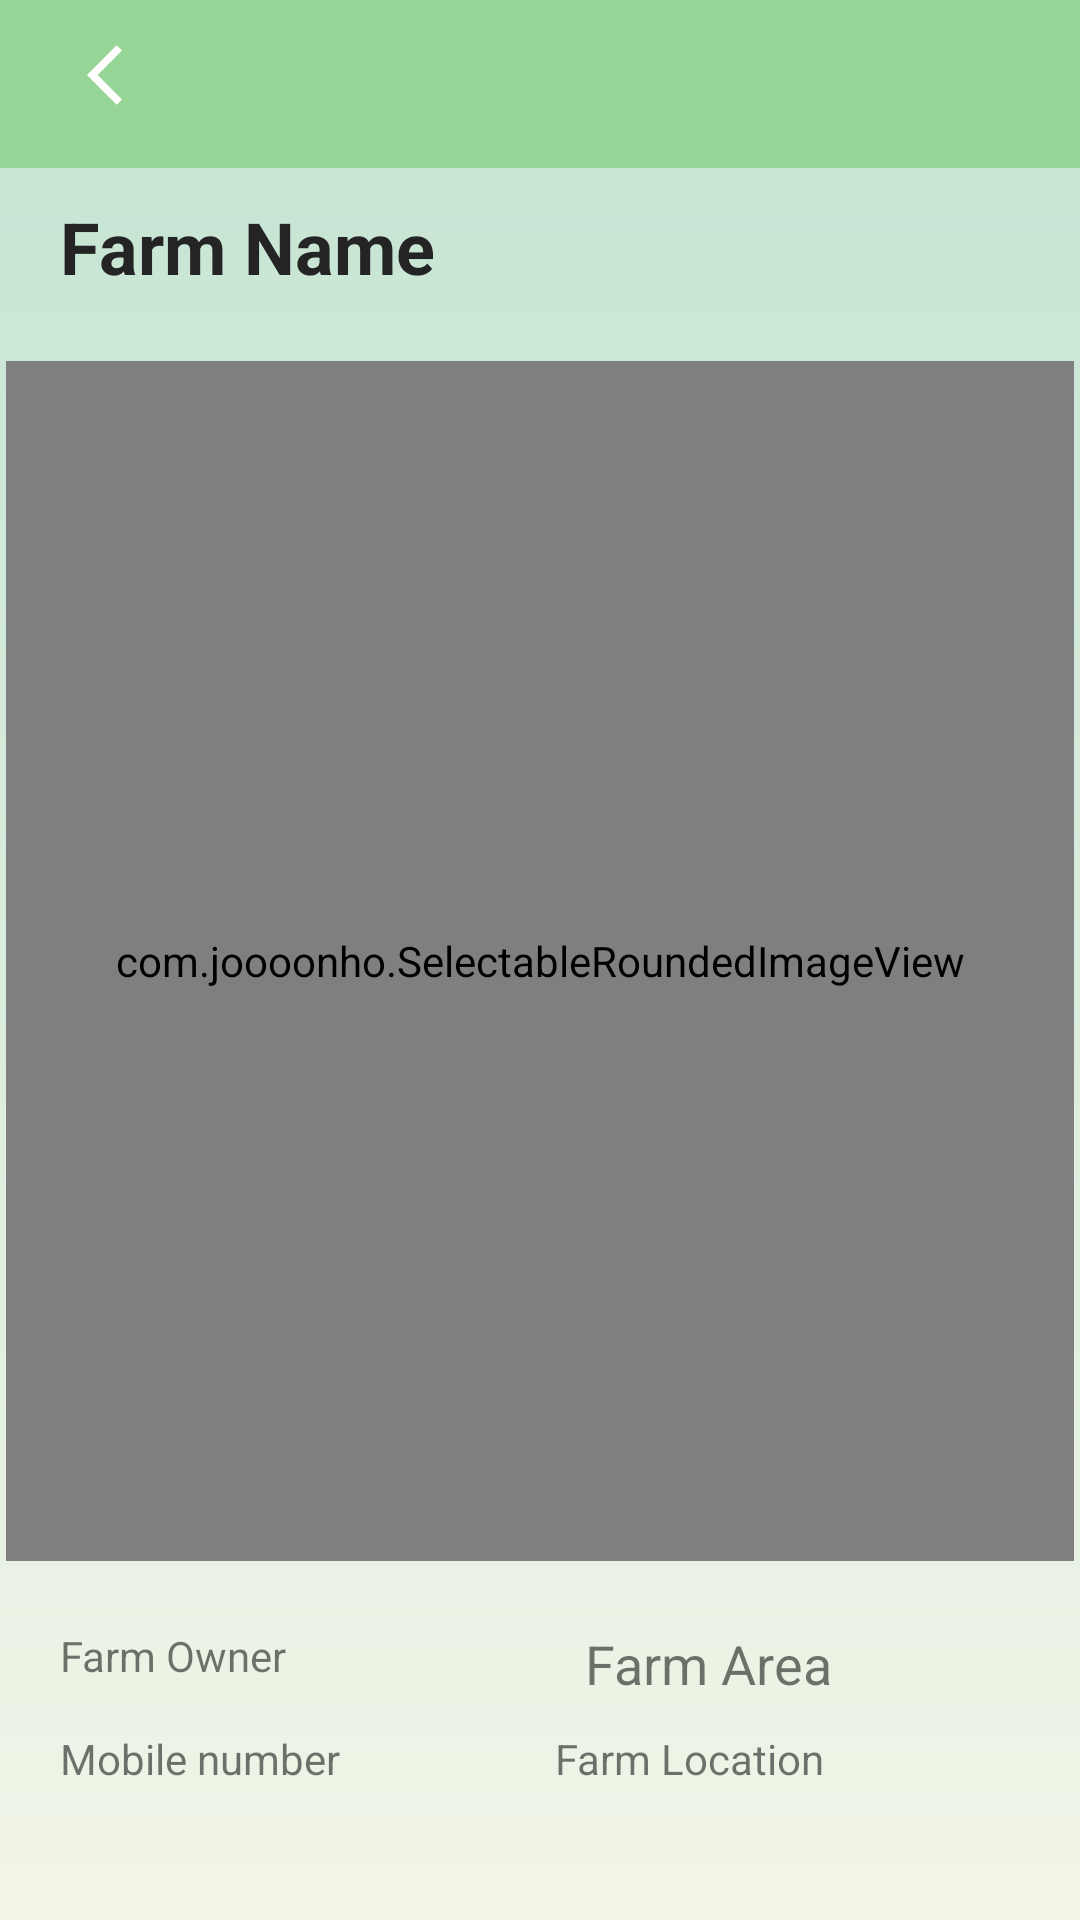

Point at icon controls on the screen. Image size 1080 x 1920, points as (x,y).
backbtn: (104,75)
